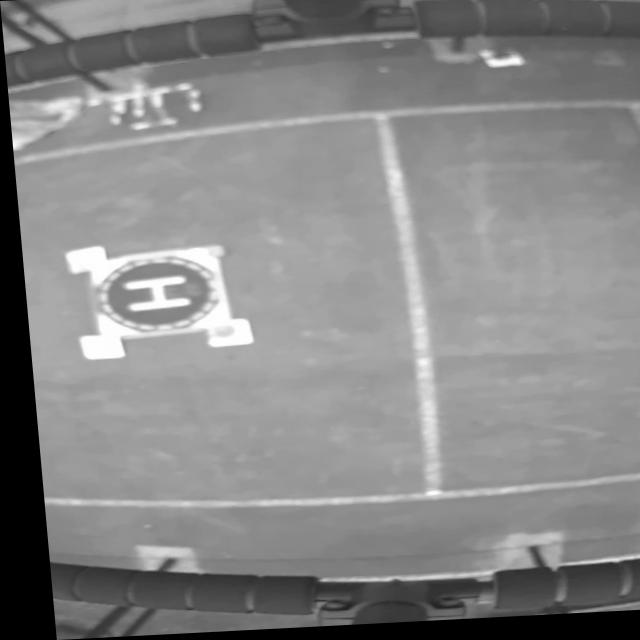Helipad: (118, 276, 185, 312)
